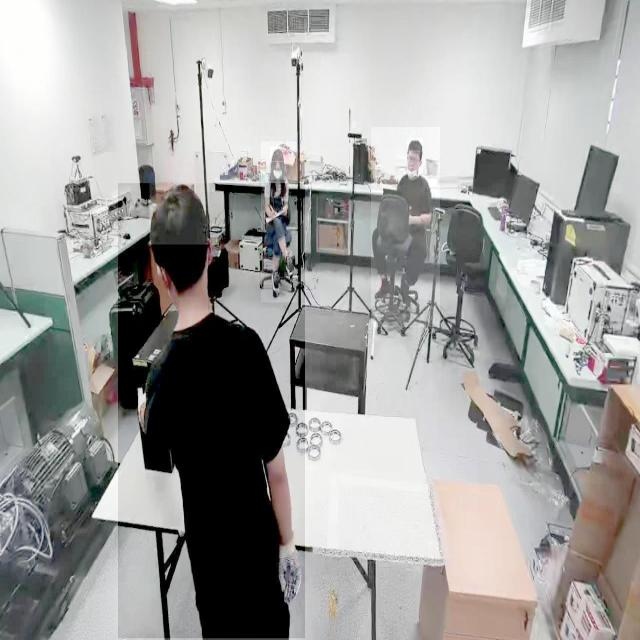face_mask: (271, 161, 285, 179)
face_nomask: (408, 150, 420, 176)
head_nohelmet: (150, 183, 208, 245), (407, 138, 423, 152), (270, 146, 284, 162)
person: (118, 183, 306, 639), (371, 127, 441, 328), (261, 142, 297, 302)
shoes: (372, 278, 392, 303), (270, 268, 282, 294), (283, 254, 295, 278)
